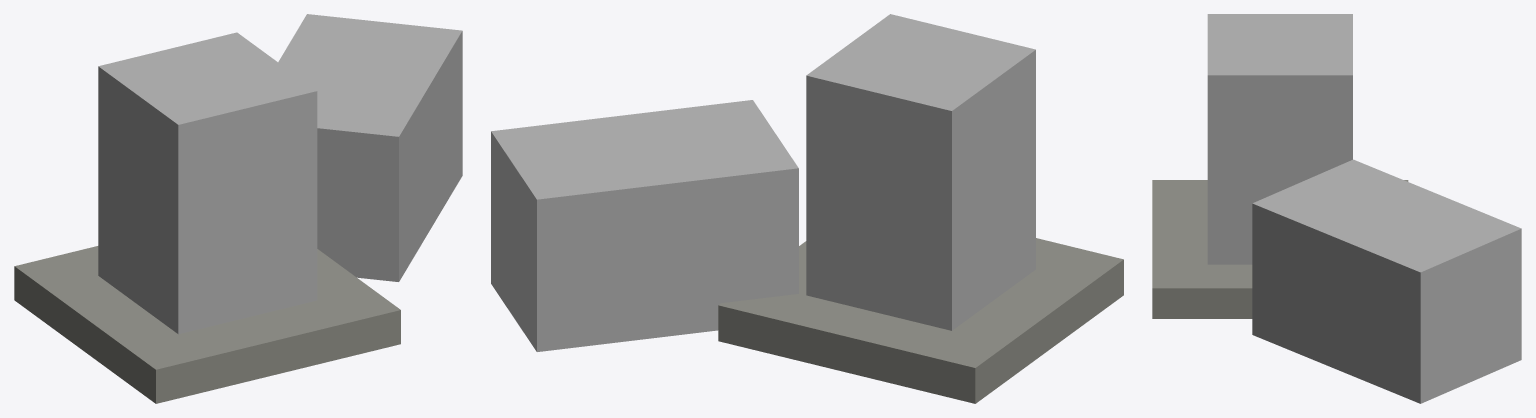
Rendered from SM_poste_km_v2_LOD1.fbx.
The picture shows the model from 3 angles, left to right: view 1: azimuth 30°, elevation 25°; view 2: azimuth 150°, elevation 25°; view 3: azimuth 270°, elevation 25°; orthographic projection. The views are drawn at different scales.
Parts seen in each view (by area): view 1: SM_bloques.poste_km_v2_LOD1; view 2: SM_bloques.poste_km_v2_LOD1; view 3: SM_bloques.poste_km_v2_LOD1.
Part boxes in pixels (x1,y1,x2,y2): SM_bloques.poste_km_v2_LOD1: (14, 14, 462, 403); SM_bloques.poste_km_v2_LOD1: (491, 14, 1123, 403); SM_bloques.poste_km_v2_LOD1: (1152, 14, 1521, 403).
Bounding box in the file's own units: 1.11 × 0.57 × 0.8657.
